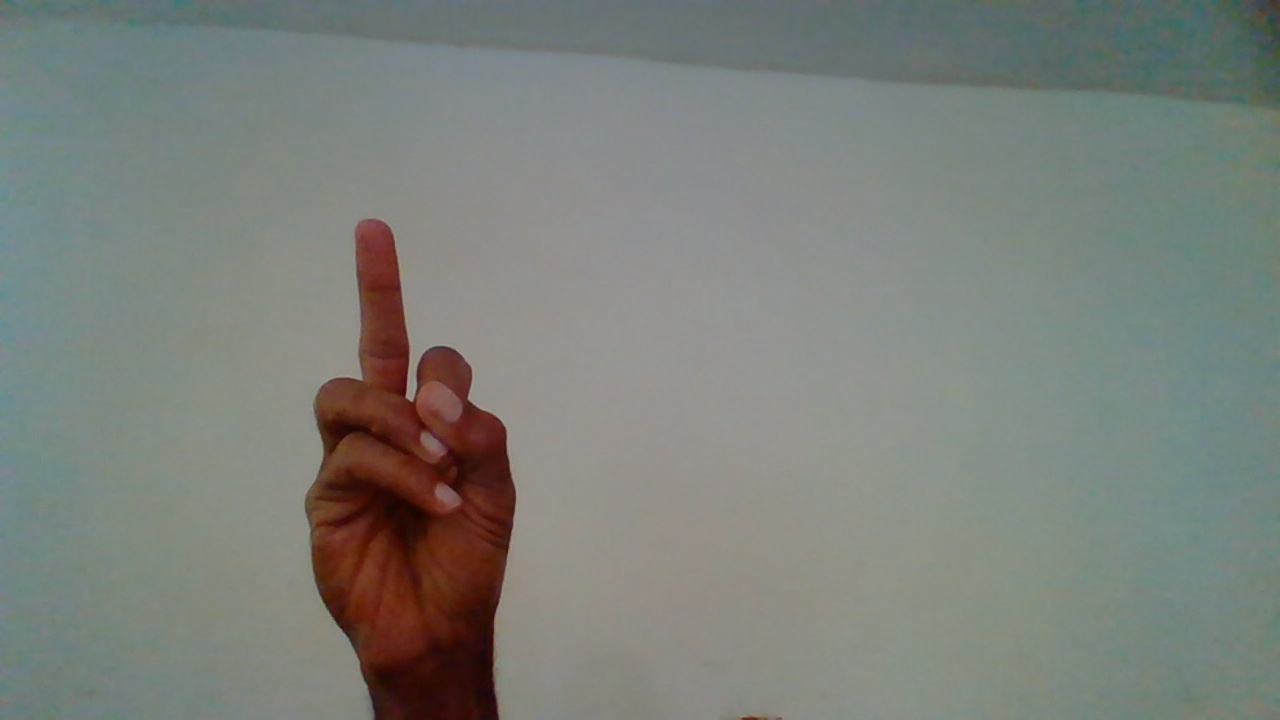he: (305, 219, 526, 712)
